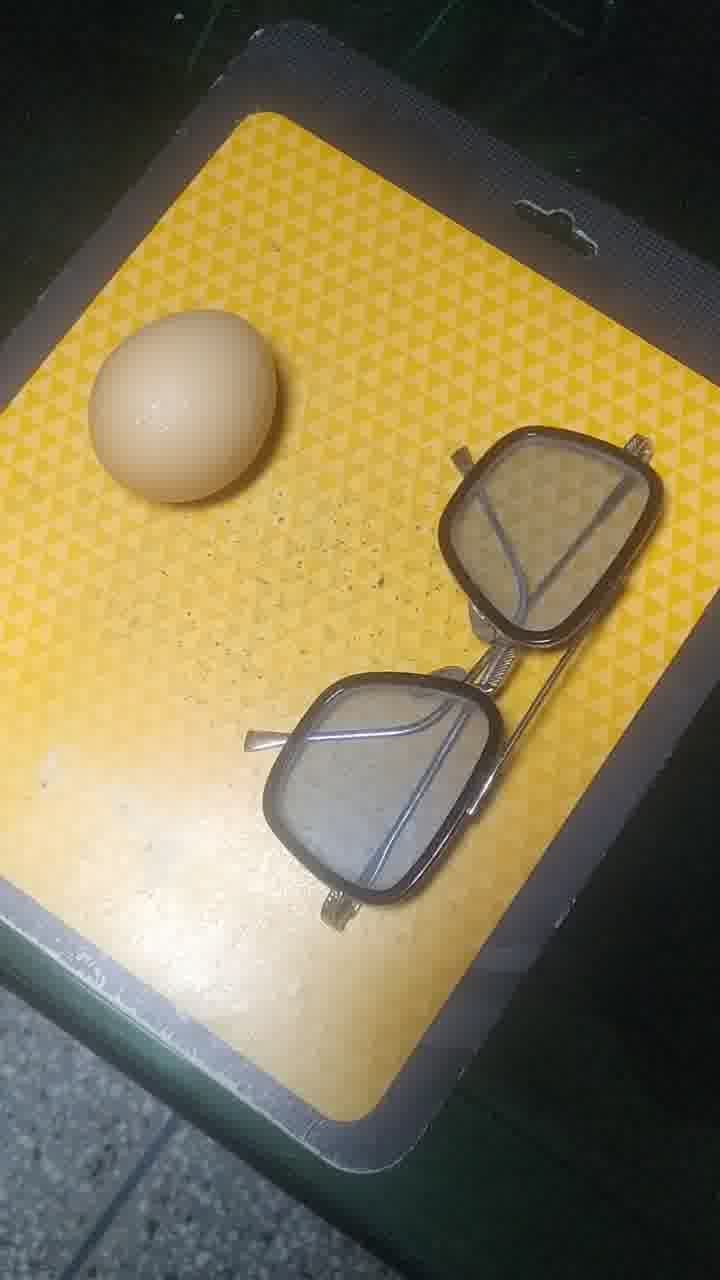egg: (94, 310, 286, 513)
sunglass: (260, 447, 671, 944)
